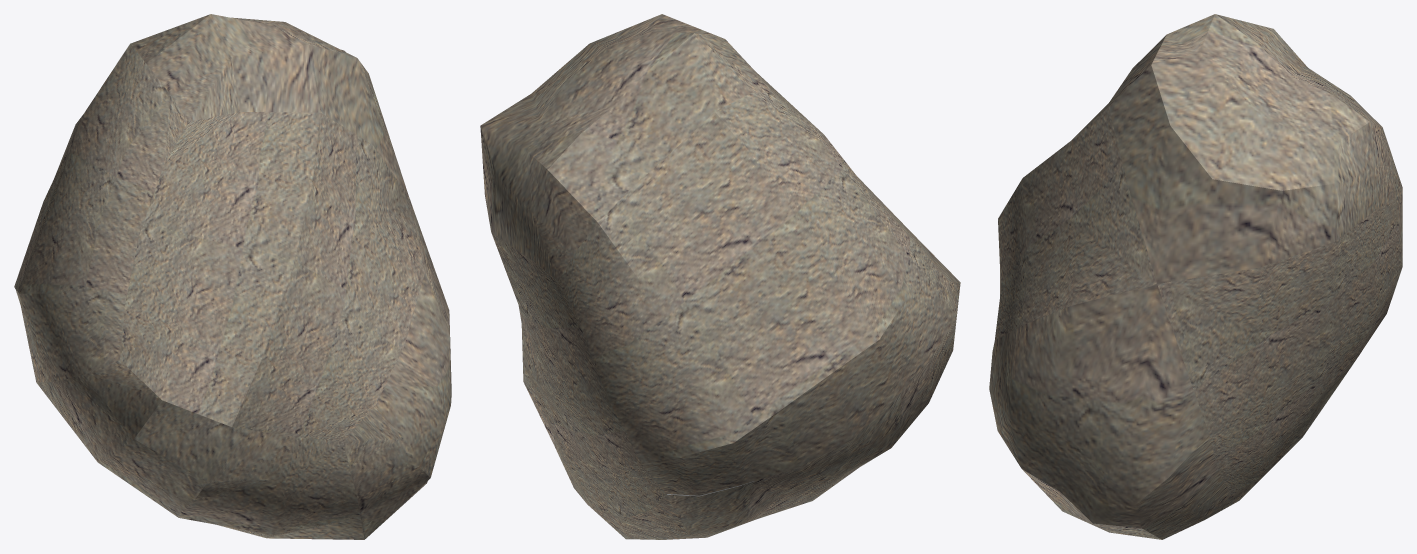
Rendered from steentjes voor activiteit 2 big.fbx.
3 renders of one model, left to right at view 1: azimuth 30°, elevation 25°; view 2: azimuth 150°, elevation 25°; view 3: azimuth 270°, elevation 25°, orthographic. The views are drawn at different scales.
Parts seen in each view (by area): view 1: rock.004; view 2: rock.004; view 3: rock.004.
Part boxes in pixels (left/top/right/bottom): rock.004: left=14, top=14, right=451, bottom=539; rock.004: left=480, top=14, right=960, bottom=539; rock.004: left=989, top=14, right=1402, bottom=539.
Size of the model in its own units: 14.63 by 18.68 by 14.63.
Materials: 1 (1 with a texture image).
